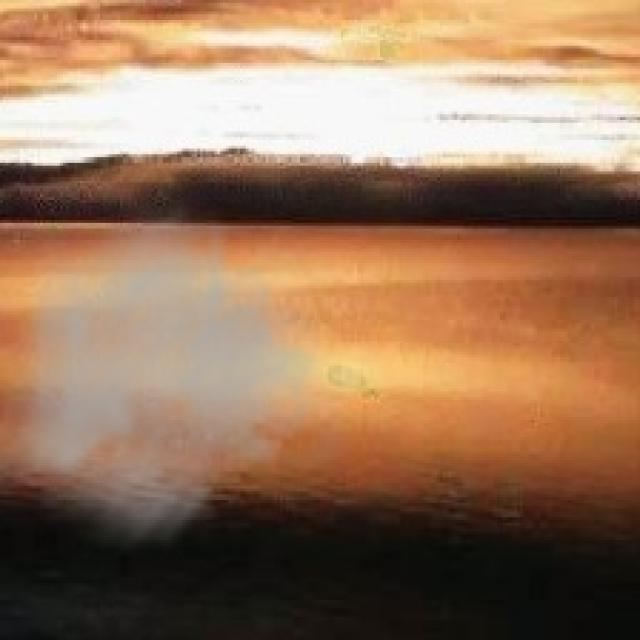smoke: (0, 191, 357, 563)
